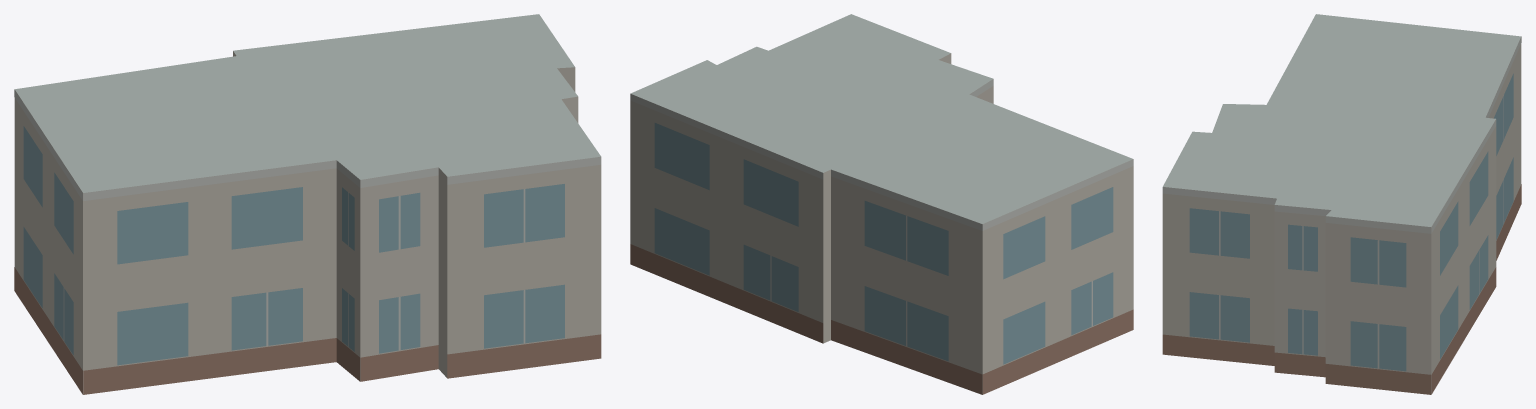
Rendered from survey-upis-32808588.glb.
The picture shows the model from 3 angles, left to right: view 1: azimuth 30°, elevation 25°; view 2: azimuth 150°, elevation 25°; view 3: azimuth 270°, elevation 25°; orthographic projection. The views are drawn at different scales.
Visible parts, largest first — view 1: survey-upis-32808588.tmp; view 2: survey-upis-32808588.tmp; view 3: survey-upis-32808588.tmp.
Part boxes in pixels (box(x1,y1,x2,y2)): survey-upis-32808588.tmp: box(14, 14, 601, 394); survey-upis-32808588.tmp: box(630, 14, 1133, 394); survey-upis-32808588.tmp: box(1162, 14, 1521, 394).
Size of the model in its own units: 16.64 by 6.1 by 11.84.
